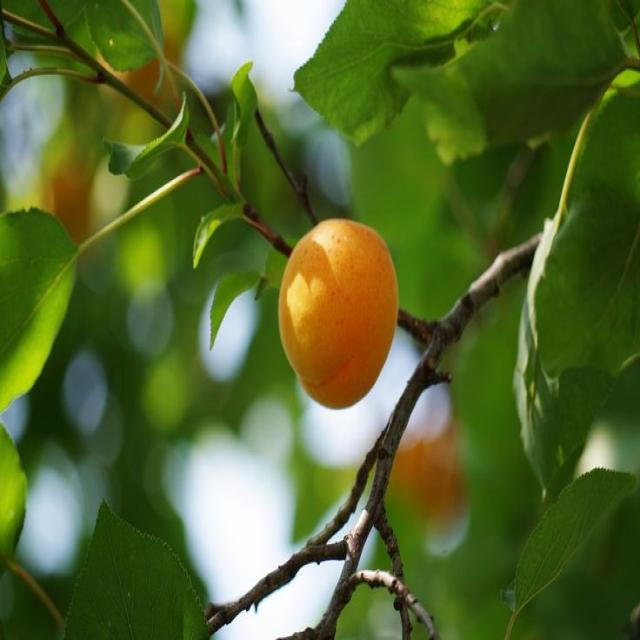Kayisi: (278, 221, 397, 407)
